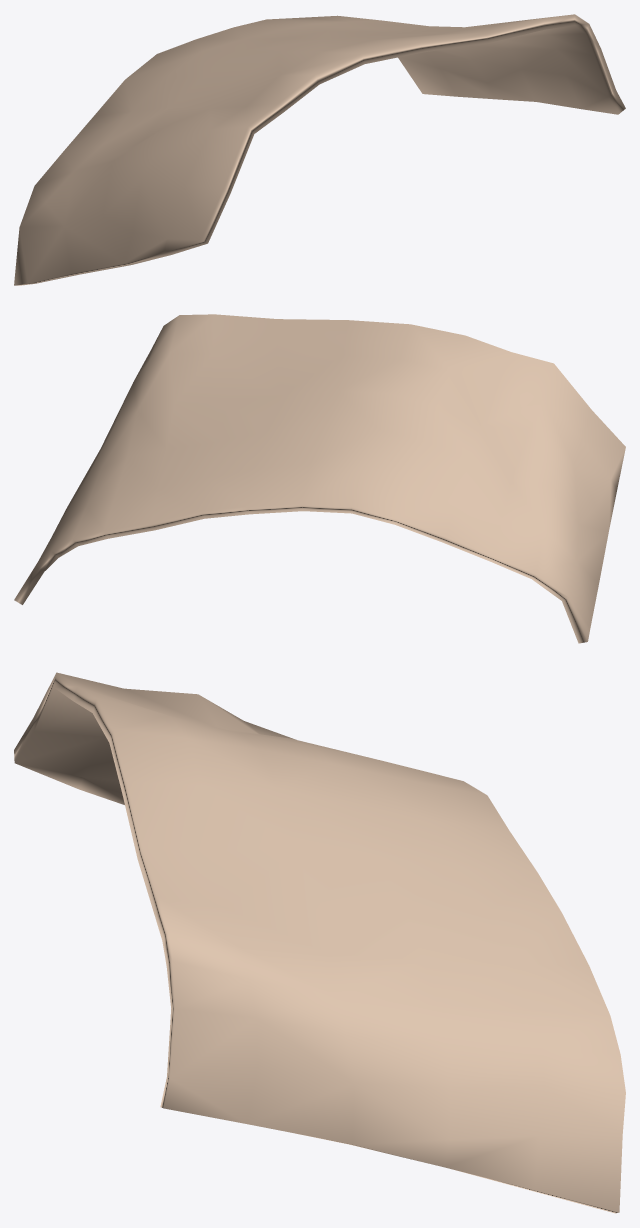
The picture shows the model from 3 angles, top to bottom: view 1: azimuth 30°, elevation 25°; view 2: azimuth 150°, elevation 25°; view 3: azimuth 270°, elevation 25°; orthographic projection. The views are drawn at different scales.
Parts seen in each view (by area): view 1: 右侧腕伸肌支持带; view 2: 右侧腕伸肌支持带; view 3: 右侧腕伸肌支持带.
Part boxes in pixels (left/top/right/bottom): 右侧腕伸肌支持带: left=14, top=14, right=625, bottom=285; 右侧腕伸肌支持带: left=14, top=314, right=625, bottom=643; 右侧腕伸肌支持带: left=14, top=672, right=625, bottom=1213.
Bounding box in the file's own units: 0.0849 × 0.0341 × 0.0589.
